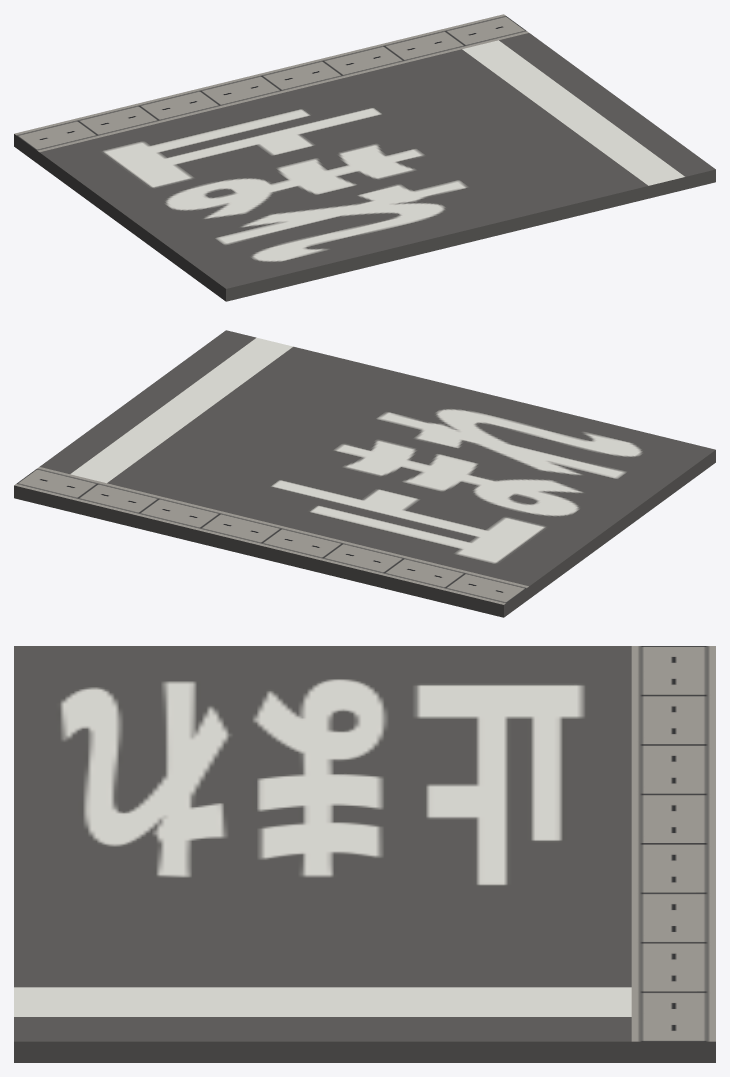
The model's file is SM_Ground_AlleyStop_300x400_R_01.fbx.
The picture shows the model from 3 angles, top to bottom: view 1: azimuth 30°, elevation 25°; view 2: azimuth 150°, elevation 25°; view 3: azimuth 270°, elevation 25°; orthographic projection. The views are drawn at different scales.
Visible parts, largest first — view 1: SM_Ground_AlleyStop_300x400_R_01; view 2: SM_Ground_AlleyStop_300x400_R_01; view 3: SM_Ground_AlleyStop_300x400_R_01.
Part boxes in pixels (<box>): SM_Ground_AlleyStop_300x400_R_01: <box>14,14,715,301</box>; SM_Ground_AlleyStop_300x400_R_01: <box>14,330,715,617</box>; SM_Ground_AlleyStop_300x400_R_01: <box>14,646,715,1062</box>.
Size of the model in its own units: 4 by 0.1 by 3.
1 material, 1 textured.
